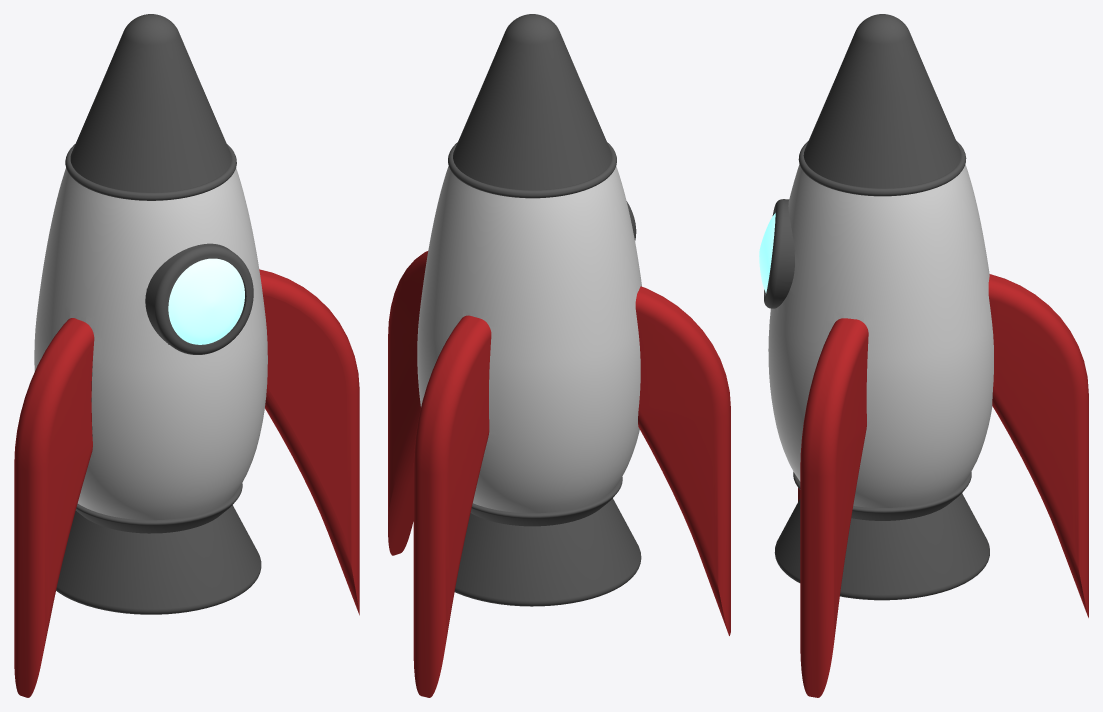
The model's file is toy_rocket.glb.
The picture shows the model from 3 angles, left to right: view 1: azimuth 30°, elevation 25°; view 2: azimuth 150°, elevation 25°; view 3: azimuth 270°, elevation 25°; orthographic projection. The views are drawn at different scales.
Parts seen in each view (by area): view 1: rocket_2; view 2: rocket_2; view 3: rocket_2.
Part boxes in pixels (x1=…): rocket_2: x1=14, y1=14, x2=359, y2=697; rocket_2: x1=388, y1=14, x2=730, y2=697; rocket_2: x1=759, y1=14, x2=1088, y2=697.
Bounding box in the file's own units: 3.18 × 5.45 × 2.72.
